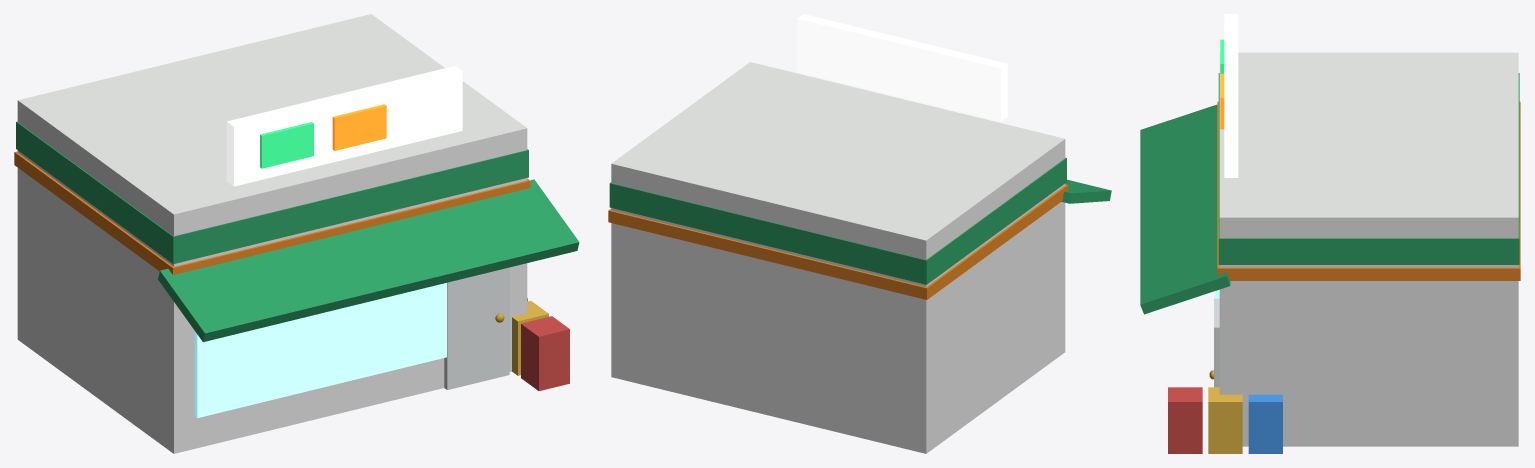
The model's file is biz_store.glb.
3 views of the same model, side by side, from view 1: azimuth 30°, elevation 25°; view 2: azimuth 150°, elevation 25°; view 3: azimuth 270°, elevation 25° (orthographic). The views are drawn at different scales.
Bounding box in the file's own units: 3.65 × 2.85 × 3.31.
